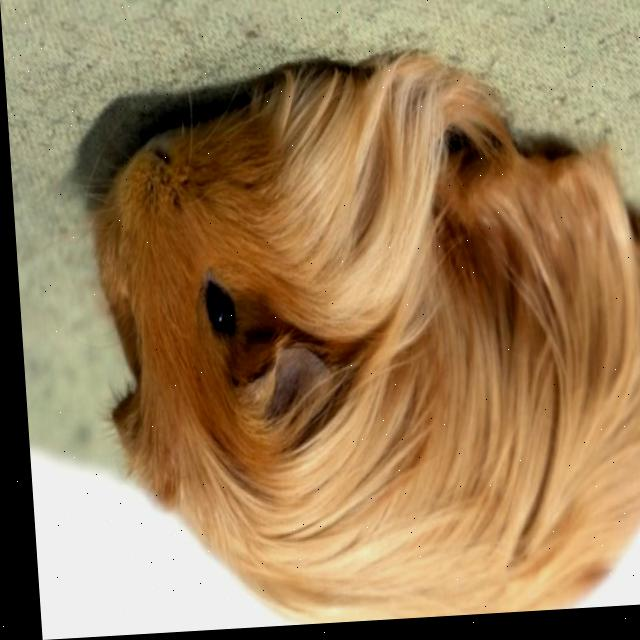guinea pig: (82, 57, 640, 636)
